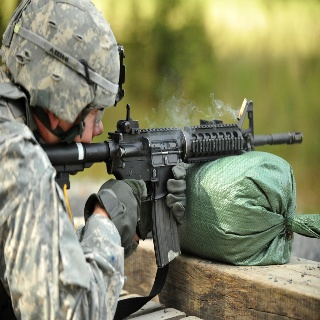rifle: (36, 99, 304, 270)
